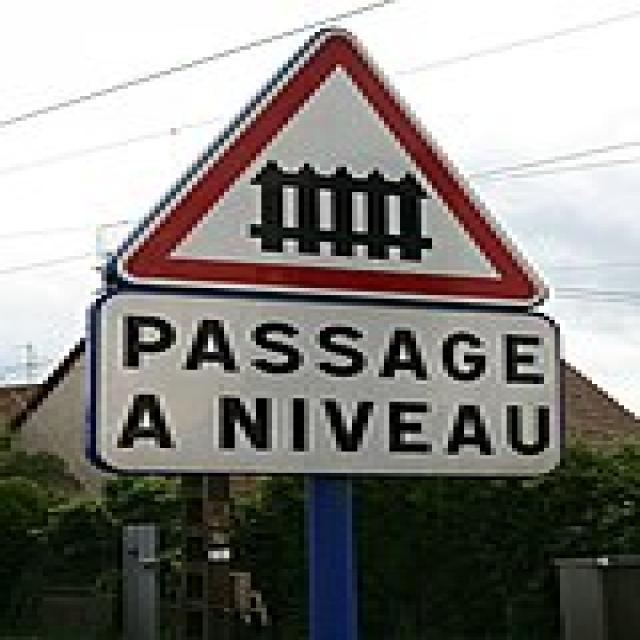Traffic sign: (74, 19, 571, 488)
